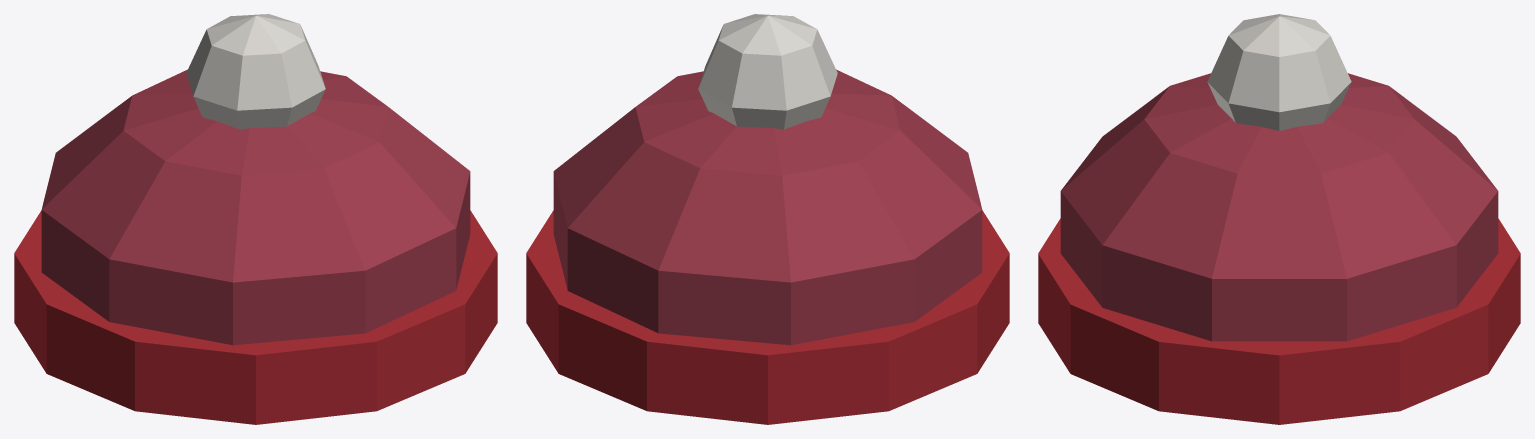
File: beanie.glb
3 views of the same model, side by side, from view 1: azimuth 30°, elevation 25°; view 2: azimuth 150°, elevation 25°; view 3: azimuth 270°, elevation 25° (orthographic).
Visible parts, largest first — view 1: Crown_mesh; view 2: Crown_mesh; view 3: Crown_mesh.
Part boxes in pixels (left/top/right/bottom): Crown_mesh: left=14, top=14, right=497, bottom=424; Crown_mesh: left=526, top=14, right=1009, bottom=424; Crown_mesh: left=1038, top=14, right=1520, bottom=424.
Bounding box in the file's own units: 0.214 × 0.177 × 0.214.
